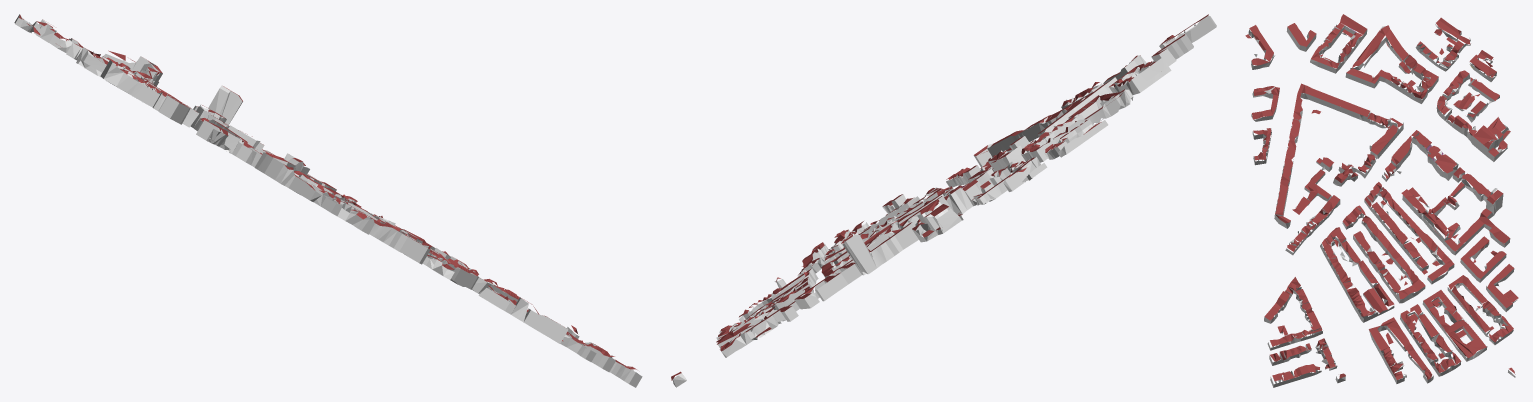
Rendered from Assetsexported_cli.glb.
3 renders of one model, left to right at view 1: azimuth 30°, elevation 25°; view 2: azimuth 150°, elevation 25°; view 3: azimuth 270°, elevation 25°, orthographic. The views are drawn at different scales.
Visible parts, largest first — view 1: CITY_MODEL; view 2: CITY_MODEL; view 3: CITY_MODEL.
Boxes of the visible parts, x1=… form: CITY_MODEL: x1=14, y1=14, x2=642, y2=387; CITY_MODEL: x1=671, y1=14, x2=1216, y2=387; CITY_MODEL: x1=1245, y1=14, x2=1518, y2=387.
Size of the model in its own units: 523 by 407 by 423.
